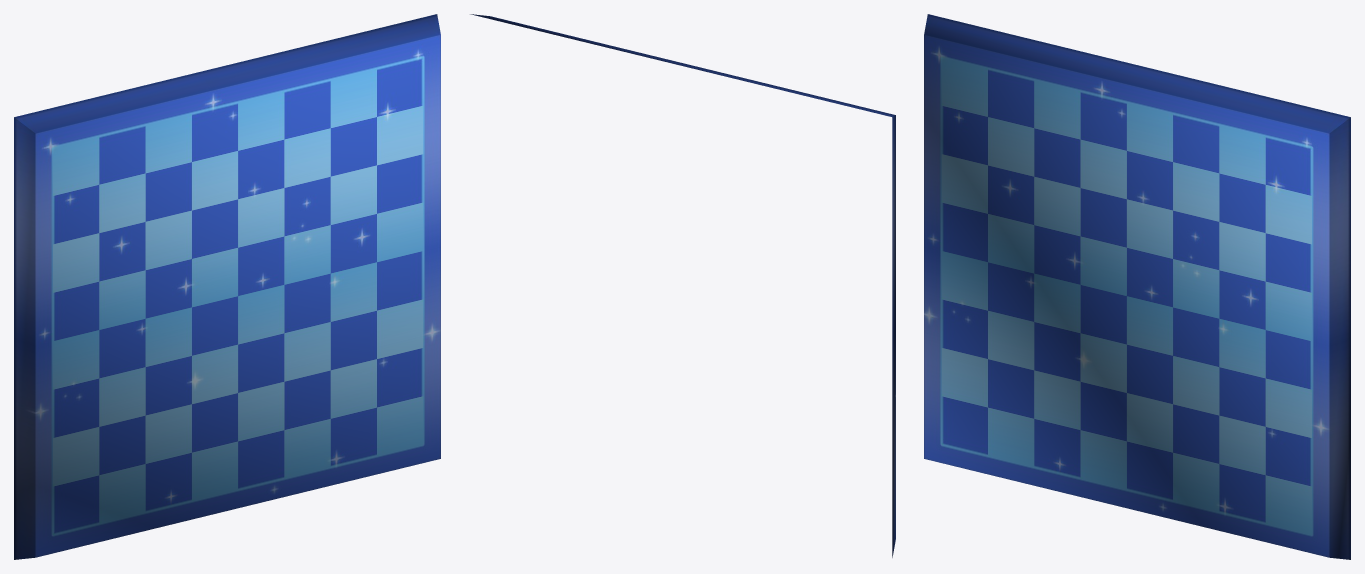
Rendered from regular_checker_game.glb.
The picture shows the model from 3 angles, left to right: view 1: azimuth 30°, elevation 25°; view 2: azimuth 150°, elevation 25°; view 3: azimuth 330°, elevation 25°; orthographic projection.
Visible parts, largest first — view 1: checker_boardMesh; view 2: checker_boardMesh; view 3: checker_boardMesh.
Boxes of the visible parts, left/top/right/bottom form: checker_boardMesh: left=14, top=14, right=440, bottom=559; checker_boardMesh: left=470, top=14, right=895, bottom=557; checker_boardMesh: left=924, top=14, right=1350, bottom=559.
Bounding box in the file's own units: 4.86 × 4.86 × 0.2489.
Materials: 1 (1 with a texture image).
